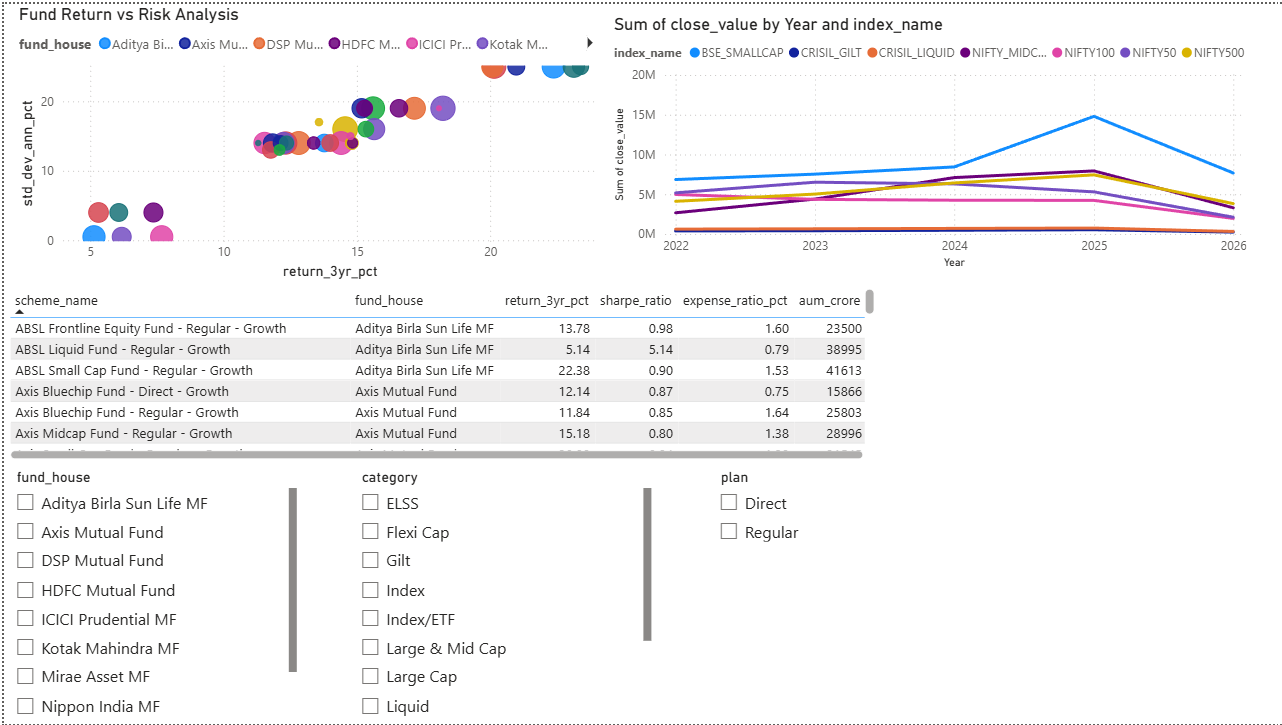

The dashboard page shown, as its layout file describes it:
{"tool":"powerbi","page":{"name":"Fund Performance","canvas":[1280,720],"ordinal":1},"visuals":[{"type":"scatterChart","title":"Fund Return vs Risk Analysis","fields":{"X":["07_scheme_performance.return_3yr_pct"],"Y":["07_scheme_performance.std_dev_ann_pct"],"Size":["Avg(07_scheme_performance.aum_crore)"],"Series":["07_scheme_performance.fund_house"]},"box":[10,0,378,280],"z":0},{"type":"tableEx","fields":{"Values":["07_scheme_performance.scheme_name","07_scheme_performance.fund_house","07_scheme_performance.return_3yr_pct","07_scheme_performance.sharpe_ratio","07_scheme_performance.expense_ratio_pct","07_scheme_performance.aum_crore"]},"box":[0,280,1066,130],"z":1},{"type":"slicer","fields":{"Values":["07_scheme_performance.fund_house"]},"box":[0,410,298,260],"z":2},{"type":"slicer","fields":{"Values":["07_scheme_performance.plan"]},"box":[678,410,296,260],"z":3},{"type":"slicer","fields":{"Values":["07_scheme_performance.category"]},"box":[332,410,308,260],"z":4},{"type":"lineChart","fields":{"Category":["10_benchmark_indices.date.Variation.Date Hierarchy.Year","10_benchmark_indices.date.Variation.Date Hierarchy.Quarter","10_benchmark_indices.date.Variation.Date Hierarchy.Month","10_benchmark_indices.date.Variation.Date Hierarchy.Day"],"Y":["Sum(10_benchmark_indices.close_value)"],"Series":["10_benchmark_indices.index_name"]},"box":[388,0,438,260],"z":5}]}

Visuals, with their boxes in screenshot pixels (x1, y1, x2, y2), scaled from the page's 1280x720 canvas onto the 1282x725 screenshot:
"Fund Return vs Risk Analysis" scatterChart: (left=10, top=0, right=389, bottom=282)
tableEx - 07_scheme_performance.scheme_name x 07_scheme_performance.fund_house: (left=0, top=282, right=1068, bottom=413)
slicer - 07_scheme_performance.fund_house: (left=0, top=413, right=298, bottom=675)
slicer - 07_scheme_performance.plan: (left=679, top=413, right=976, bottom=675)
slicer - 07_scheme_performance.category: (left=333, top=413, right=641, bottom=675)
lineChart - 10_benchmark_indices.date.Variation.Date Hierarchy.Year x 10_benchmark_indices.date.Variation.Date Hierarchy.Quarter: (left=389, top=0, right=827, bottom=262)
